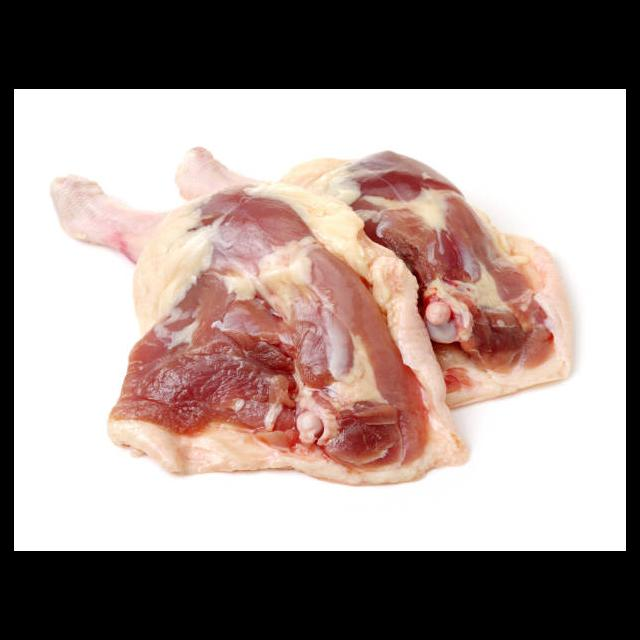chicken: (50, 175, 473, 484), (177, 148, 579, 410)
